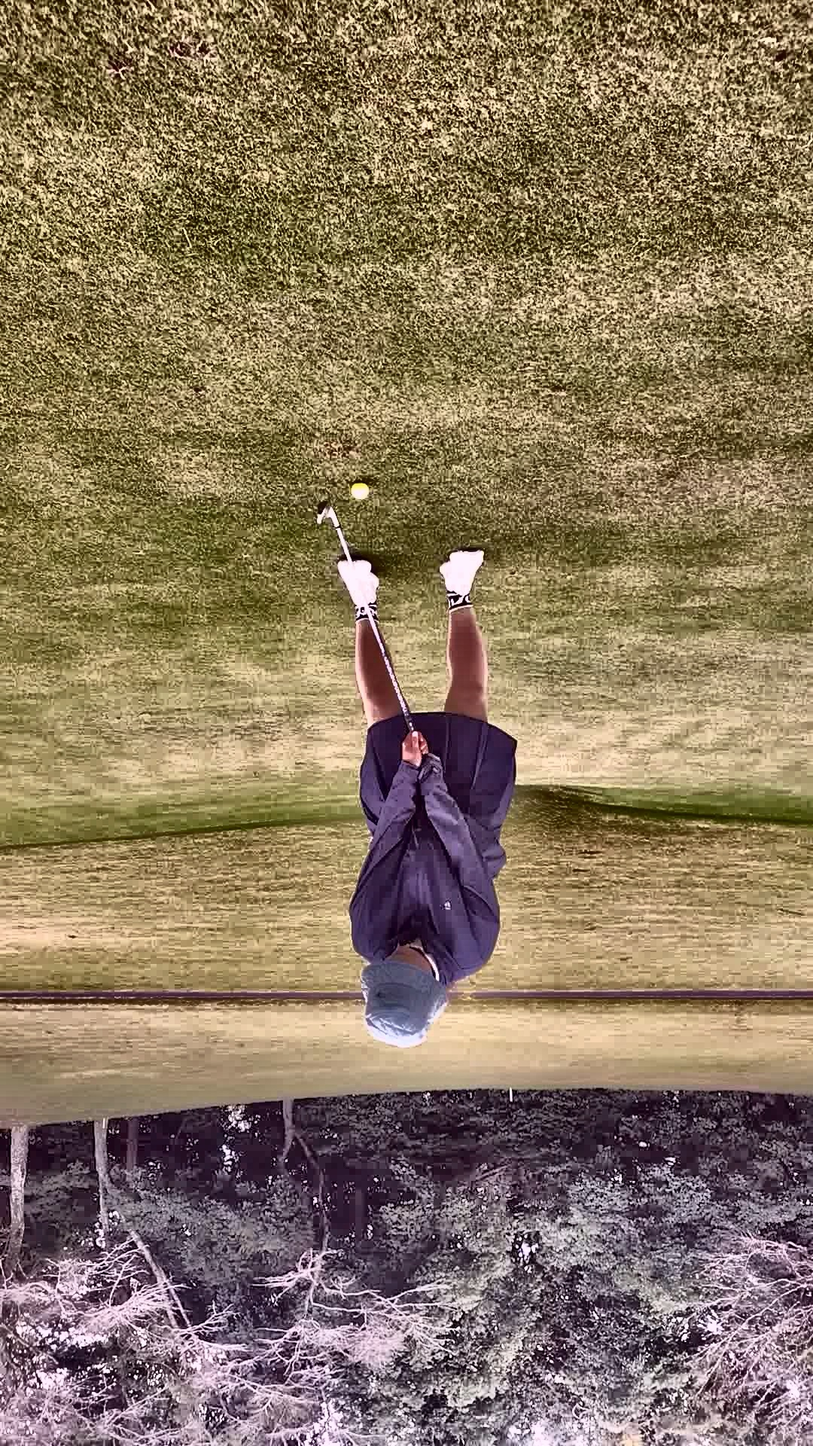clubhead: (226, 469, 397, 551)
